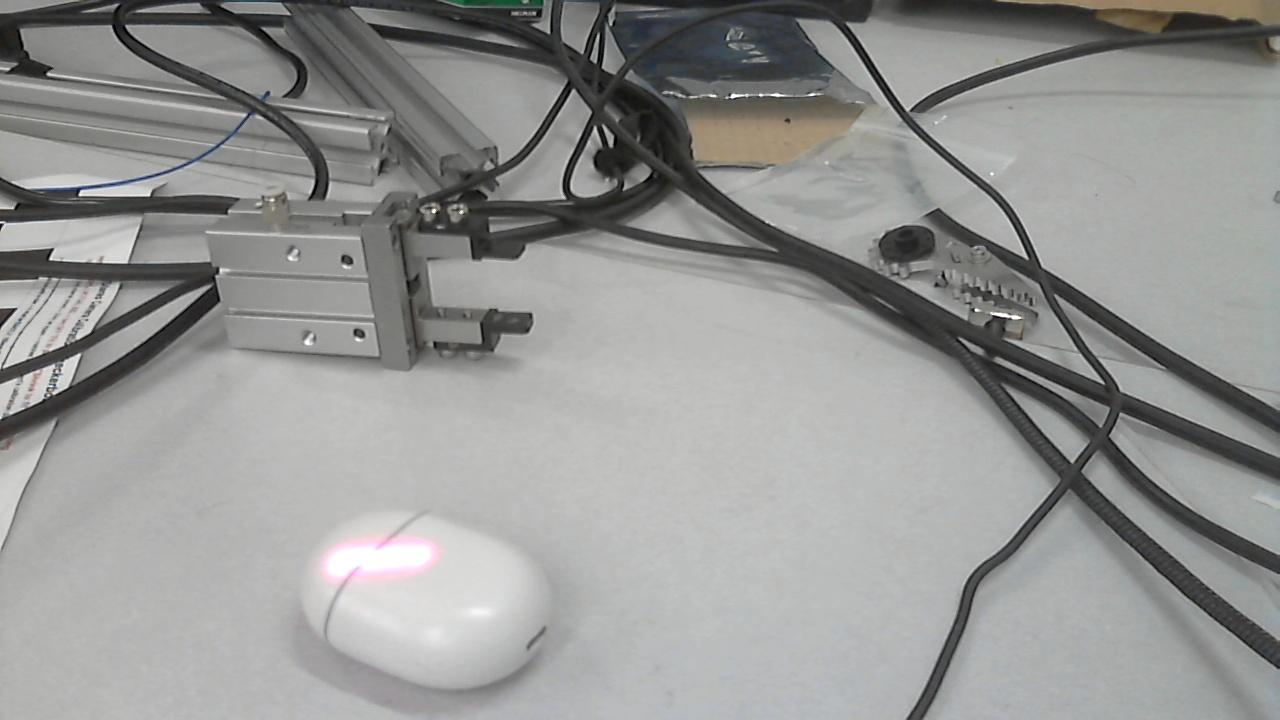Object wireless earbud charging case - Material plastic - Pdfname qzJIPQkli2jB: (306, 532, 467, 595)
